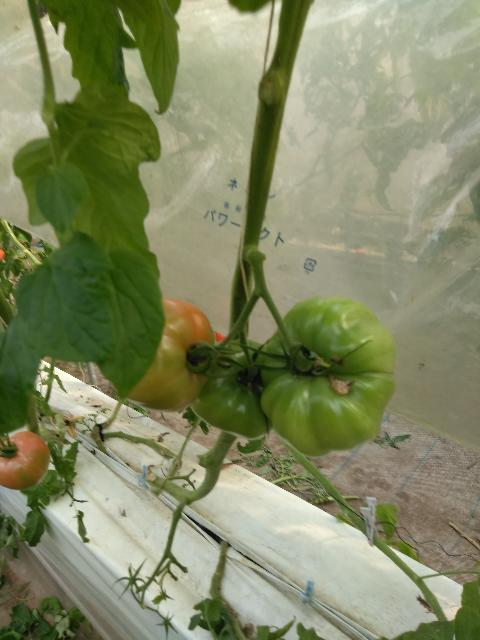b_green: (260, 296, 397, 458), (190, 337, 273, 440)
b_half_ripened: (126, 297, 215, 413), (0, 431, 50, 490)
